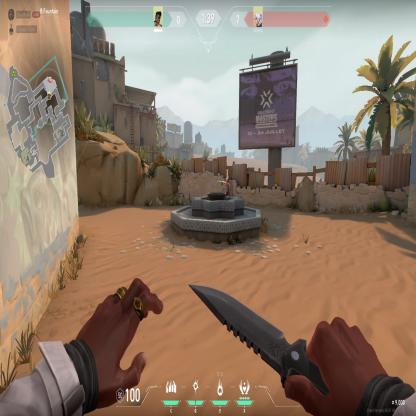enemy: (224, 176, 233, 198)
